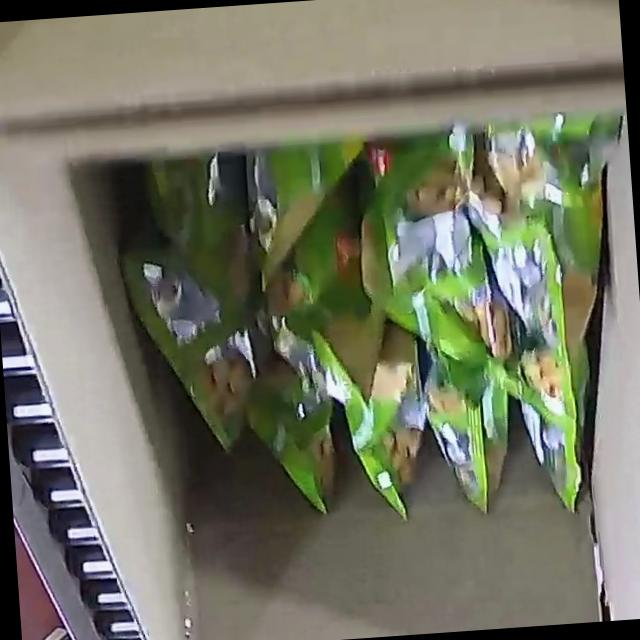yogurt: (110, 112, 640, 546)
